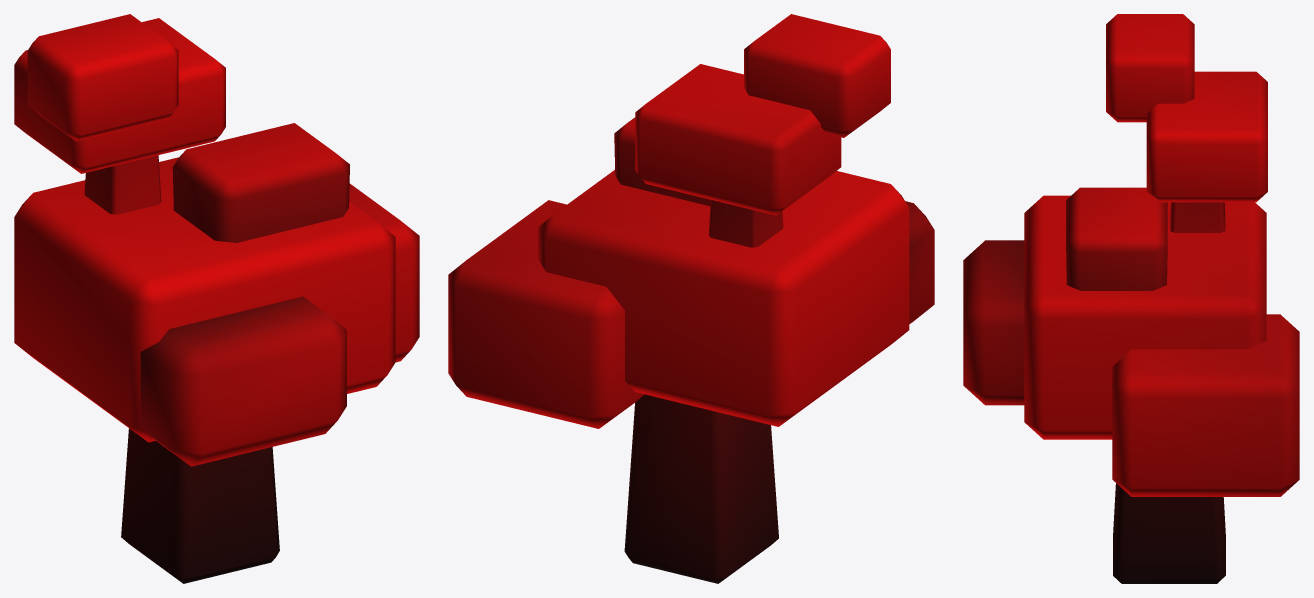
Rendered from CastleExterior_Tree_04.fbx.
3 views of the same model, side by side, from view 1: azimuth 30°, elevation 25°; view 2: azimuth 150°, elevation 25°; view 3: azimuth 270°, elevation 25° (orthographic). The views are drawn at different scales.
Parts seen in each view (by area): view 1: CastleExterior_Tree_04; view 2: CastleExterior_Tree_04; view 3: CastleExterior_Tree_04.
Part boxes in pixels (x1,y1,x2,y2): CastleExterior_Tree_04: (14,14,419,583); CastleExterior_Tree_04: (448,14,934,583); CastleExterior_Tree_04: (963,14,1299,583).
Size of the model in its own units: 187 by 271 by 170.
